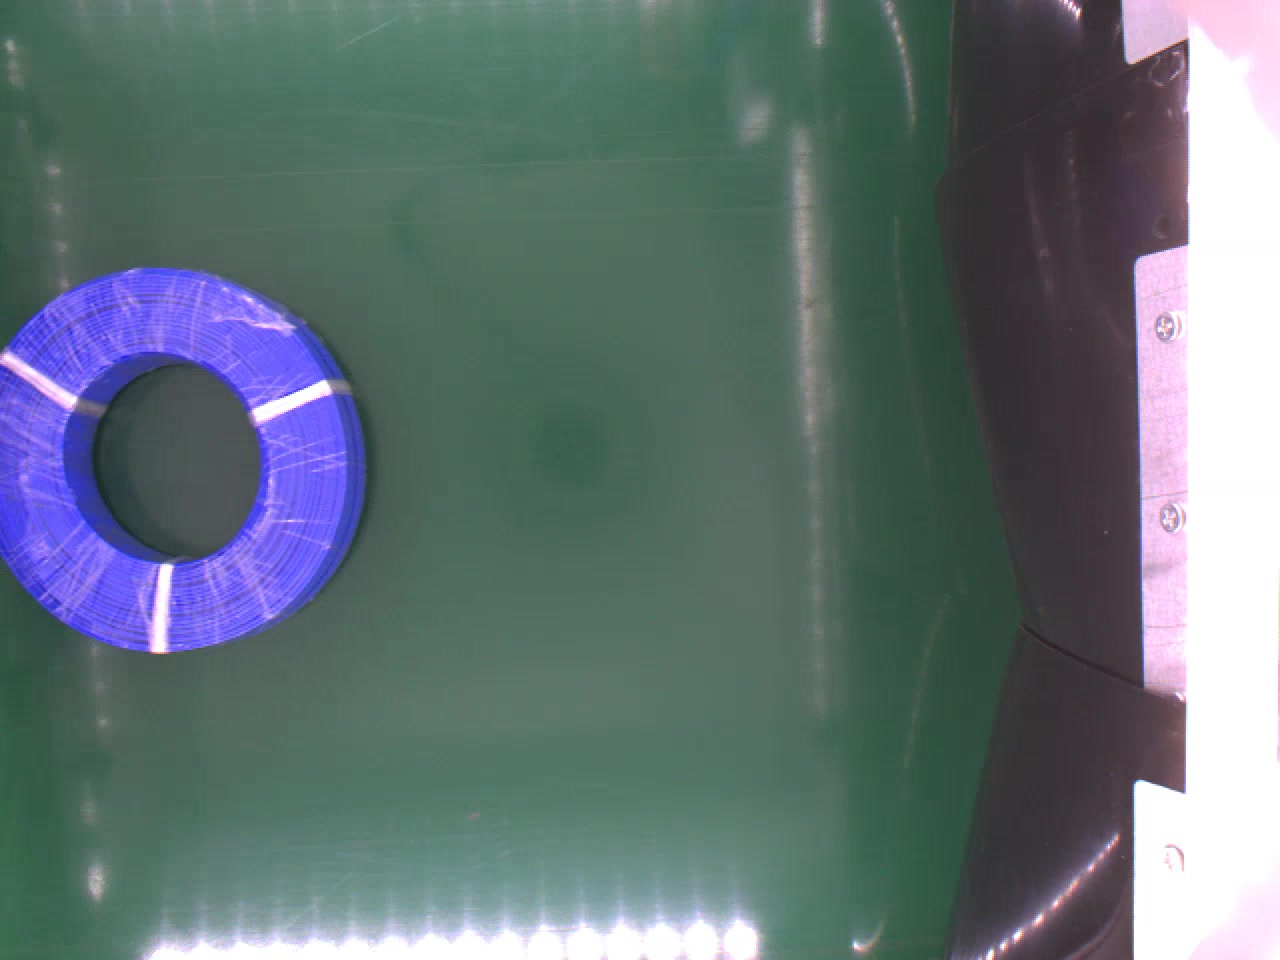blue: (0, 266, 365, 650)
